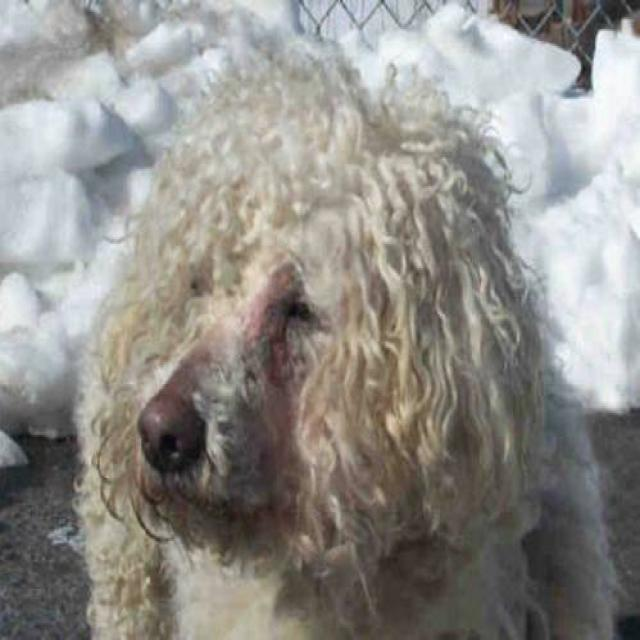dog: (71, 31, 622, 638)
